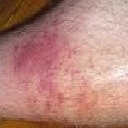Cellulitis: (8, 34, 70, 103)
